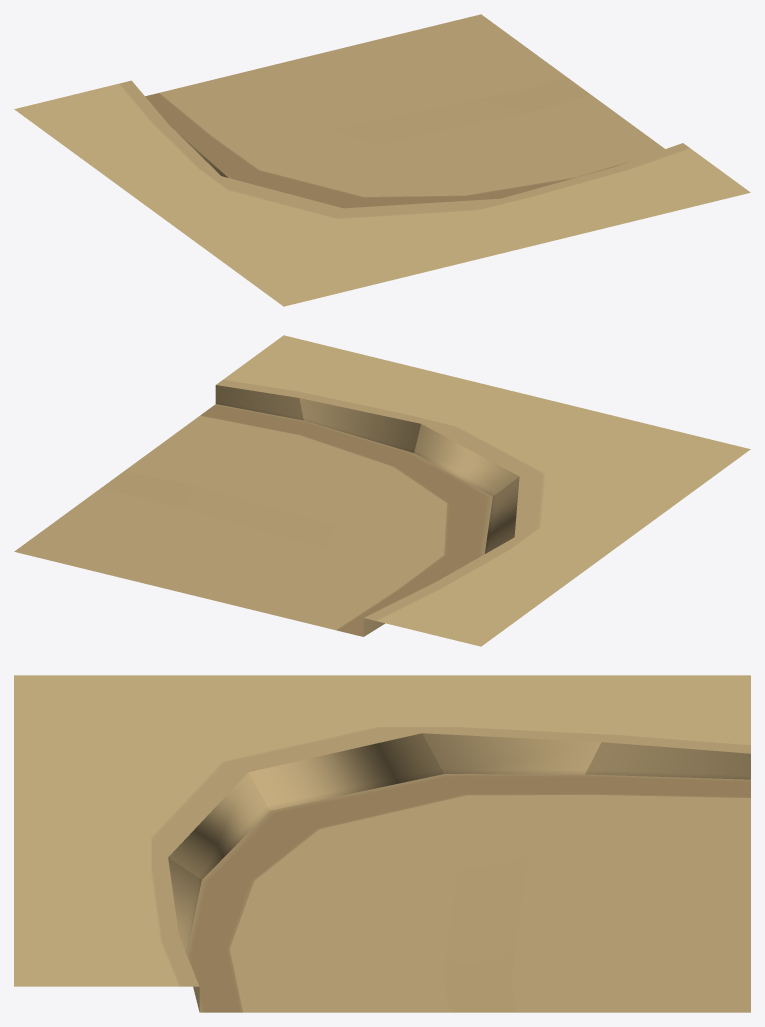
The model's file is SM_Env_Road_Dirt_Bend_01.fbx.
3 renders of one model, top to bottom at view 1: azimuth 30°, elevation 25°; view 2: azimuth 150°, elevation 25°; view 3: azimuth 270°, elevation 25°, orthographic. The views are drawn at different scales.
Parts seen in each view (by area): view 1: SM_Env_Road_Dirt_Bend_01; view 2: SM_Env_Road_Dirt_Bend_01; view 3: SM_Env_Road_Dirt_Bend_01.
Boxes of the visible parts, x1,y1,x2,y2 form: SM_Env_Road_Dirt_Bend_01: (14,14,750,306); SM_Env_Road_Dirt_Bend_01: (14,335,750,646); SM_Env_Road_Dirt_Bend_01: (14,675,750,1012).
Bounding box in the file's own units: 5 × 0.1948 × 5.
